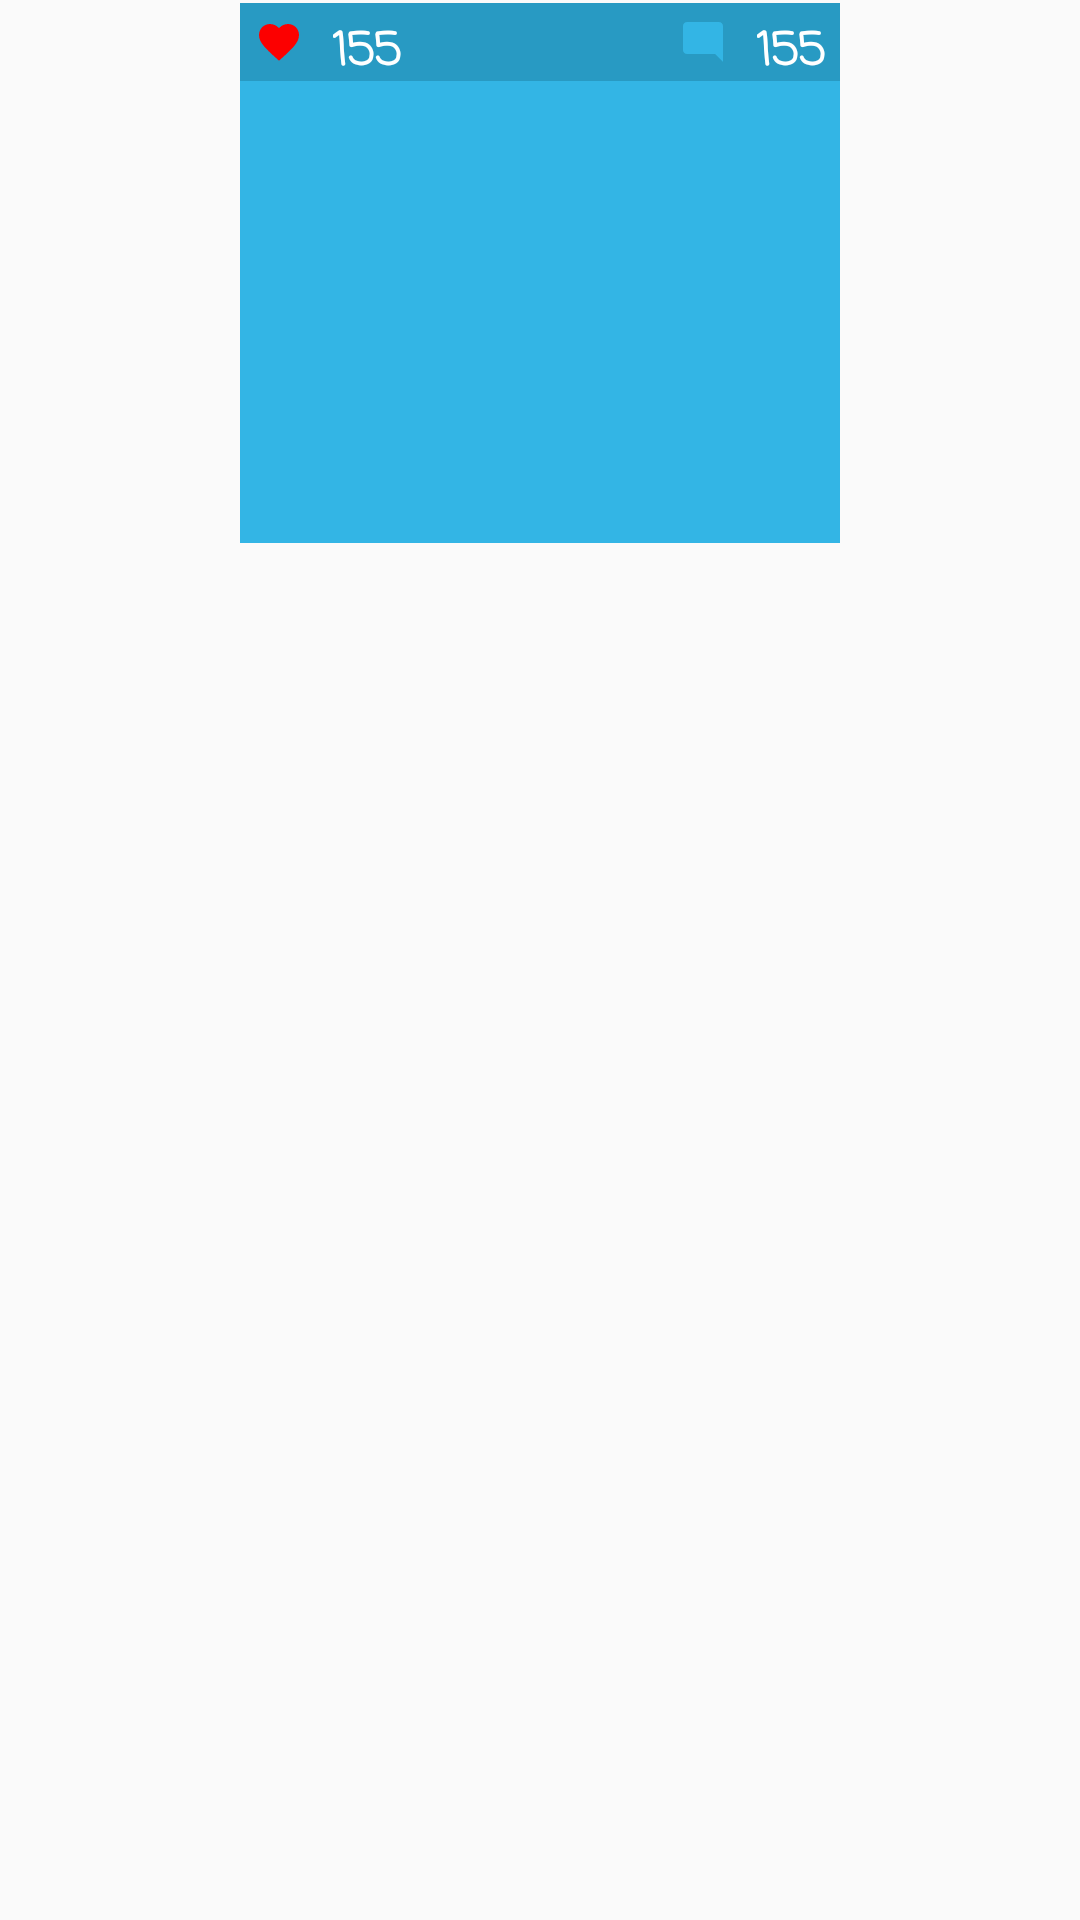

Where to tap for icons on this 1080*1920 app screen, as (x=x, y=y):
like: (x=279, y=42)
